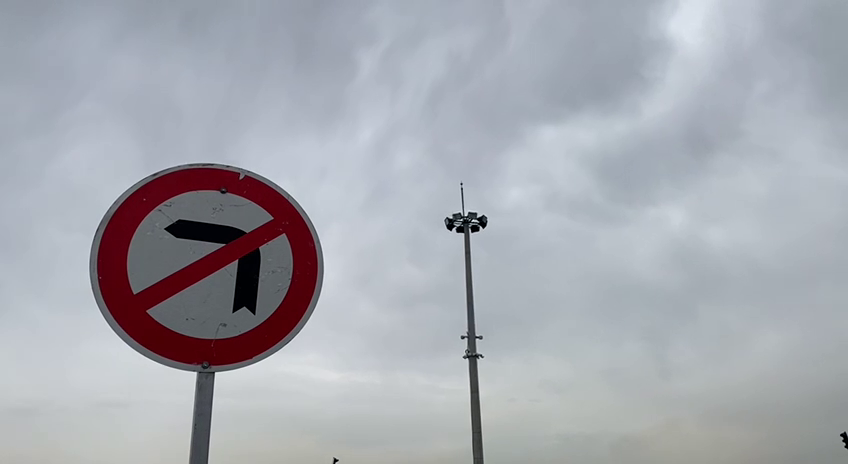noTurnLeft: (85, 157, 326, 380)
